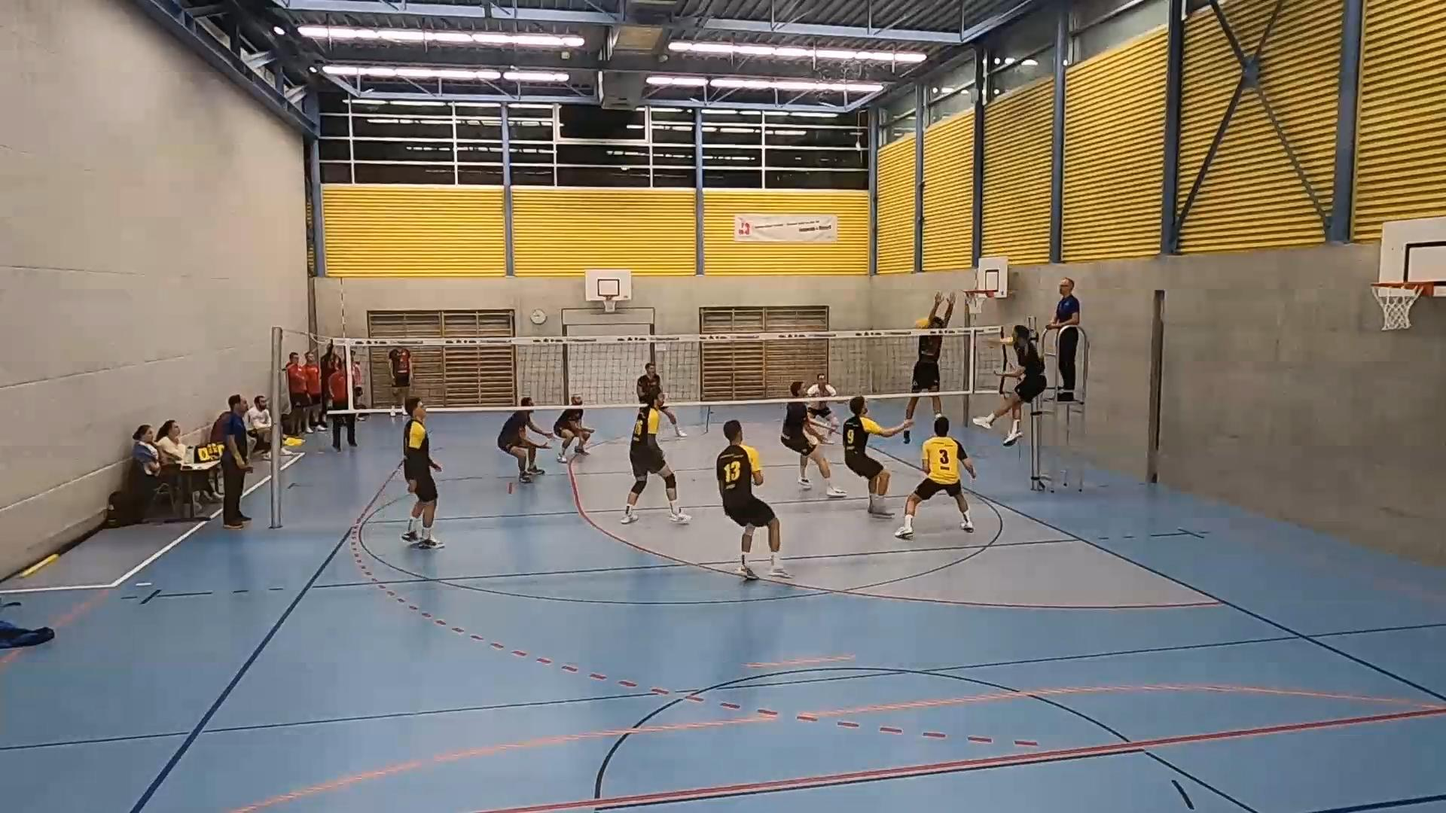attacco: (962, 319, 1062, 443)
muro: (892, 279, 957, 447)
